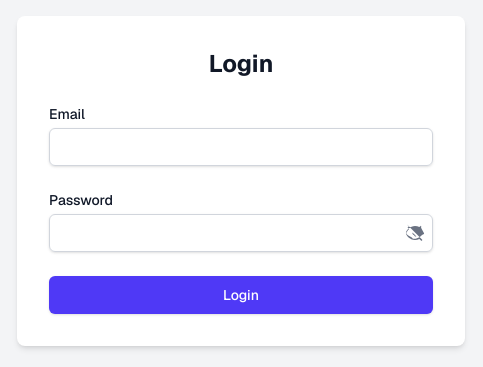
Test: LoginPage › should toggle password visibility when toggle button is clicked
// Click to show password
Step 1. Click the button named "show password" → x=415, y=233, box [397,214,433,252]
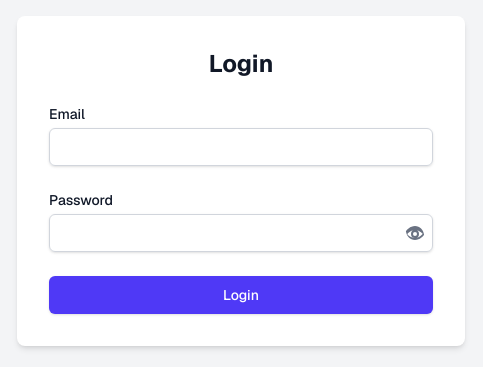
Expected: the button named "hide password" is shown
// Click to hide password again
Step 2. Click the button named "hide password" → x=415, y=233, box [397,214,433,252]
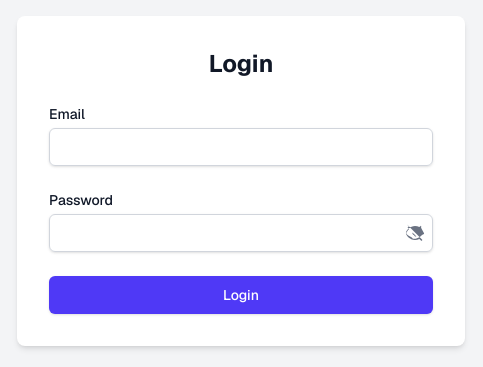
Expected: the button named "show password" is shown, [397,214,433,252]
